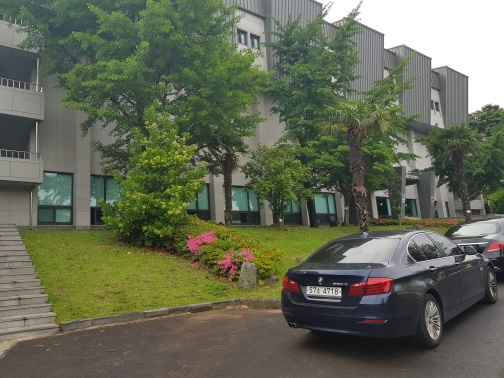Gym: (253, 2, 486, 219), (334, 8, 474, 143), (383, 162, 450, 221)
